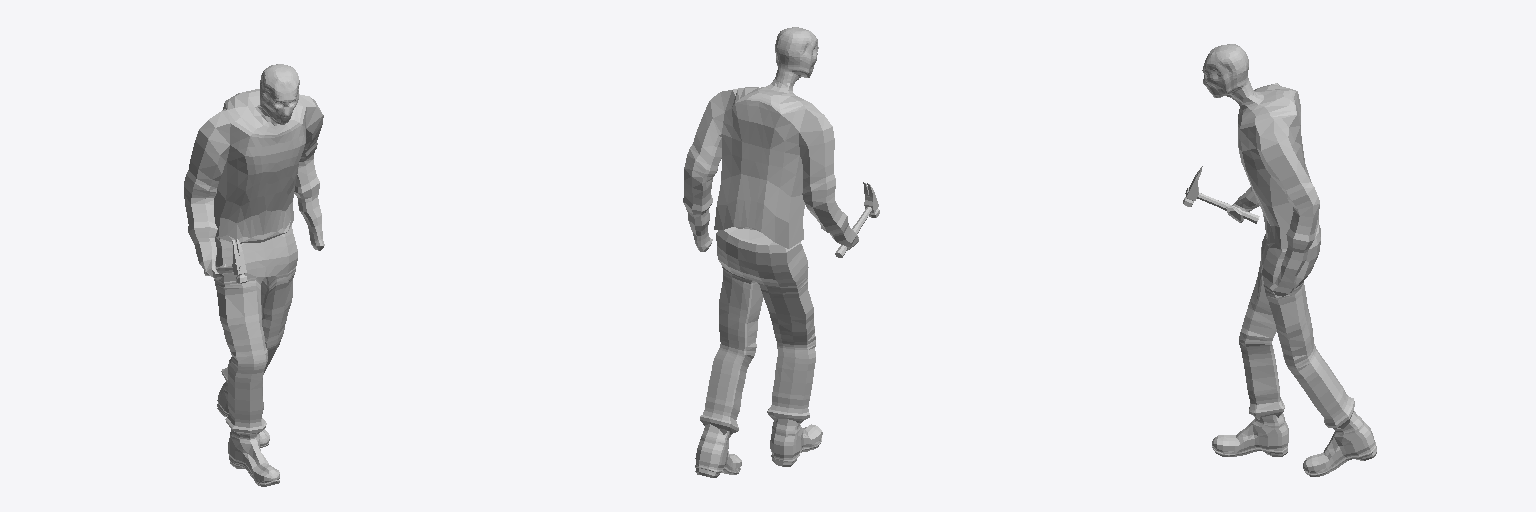
File: Murderer_Idle27.obj
The picture shows the model from 3 angles: view 1: azimuth 30°, elevation 25°; view 2: azimuth 150°, elevation 25°; view 3: azimuth 270°, elevation 25°; orthographic projection.
Parts seen in each view (by area): view 1: Körper, Beine, Stiefel, Hammer; view 2: Körper, Beine, Stiefel, Hammer; view 3: Körper, Beine, Stiefel, Hammer.
Part boxes in pixels (bbox=[...]): Körper: bbox=[184, 64, 324, 279]; Beine: bbox=[214, 225, 297, 434]; Stiefel: bbox=[217, 381, 279, 486]; Hammer: bbox=[204, 239, 247, 283]; Körper: bbox=[683, 27, 858, 251]; Beine: bbox=[700, 227, 815, 436]; Stiefel: bbox=[695, 419, 822, 477]; Hammer: bbox=[835, 182, 879, 257]; Körper: bbox=[1202, 44, 1319, 296]; Beine: bbox=[1239, 225, 1354, 428]; Stiefel: bbox=[1212, 411, 1376, 476]; Hammer: bbox=[1183, 166, 1259, 223].
Size of the model in its own units: 0.3437 by 0.9617 by 0.4093.